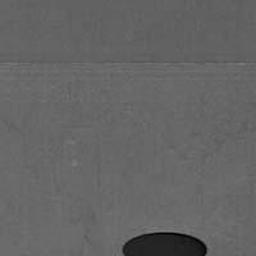Punching: (122, 230, 209, 256)
